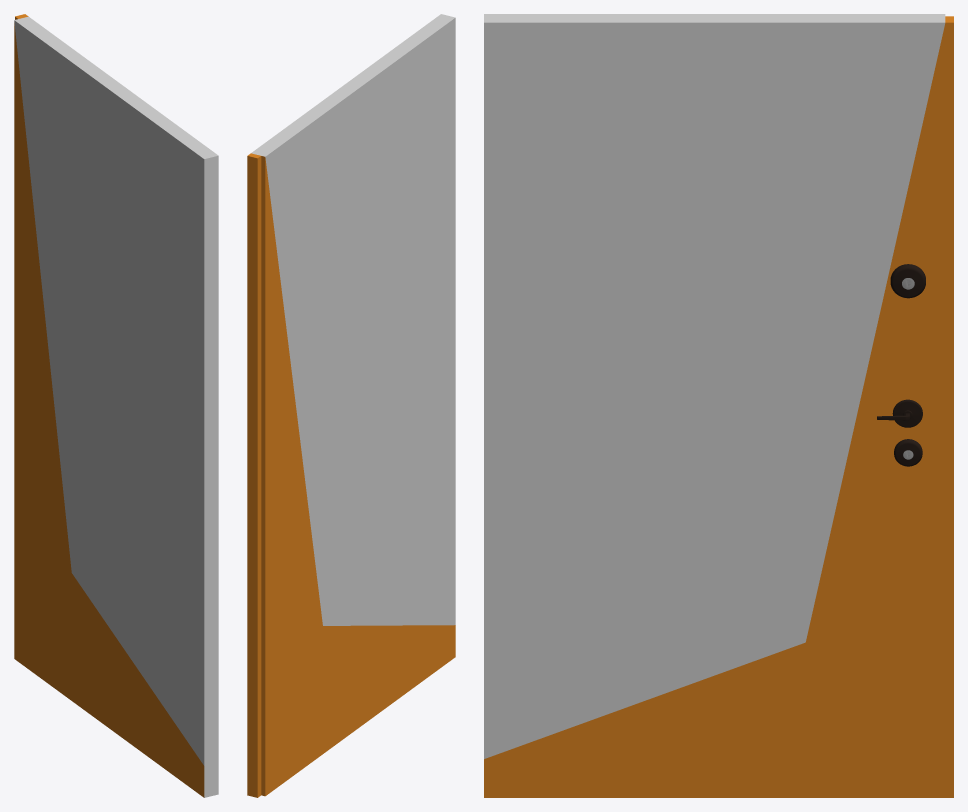
File: na_przyklad_kurwa_drzwi.fbx
3 renders of one model, left to right at view 1: azimuth 30°, elevation 25°; view 2: azimuth 150°, elevation 25°; view 3: azimuth 270°, elevation 25°, orthographic. The views are drawn at different scales.
Visible parts, largest first — view 1: Cube; view 2: Cube; view 3: Cube.
Part boxes in pixels (box(x1,y1,x2,y2)): Cube: box(14, 14, 218, 797); Cube: box(247, 14, 455, 797); Cube: box(484, 14, 953, 797).
Size of the model in its own units: 7.67 by 200 by 110.
